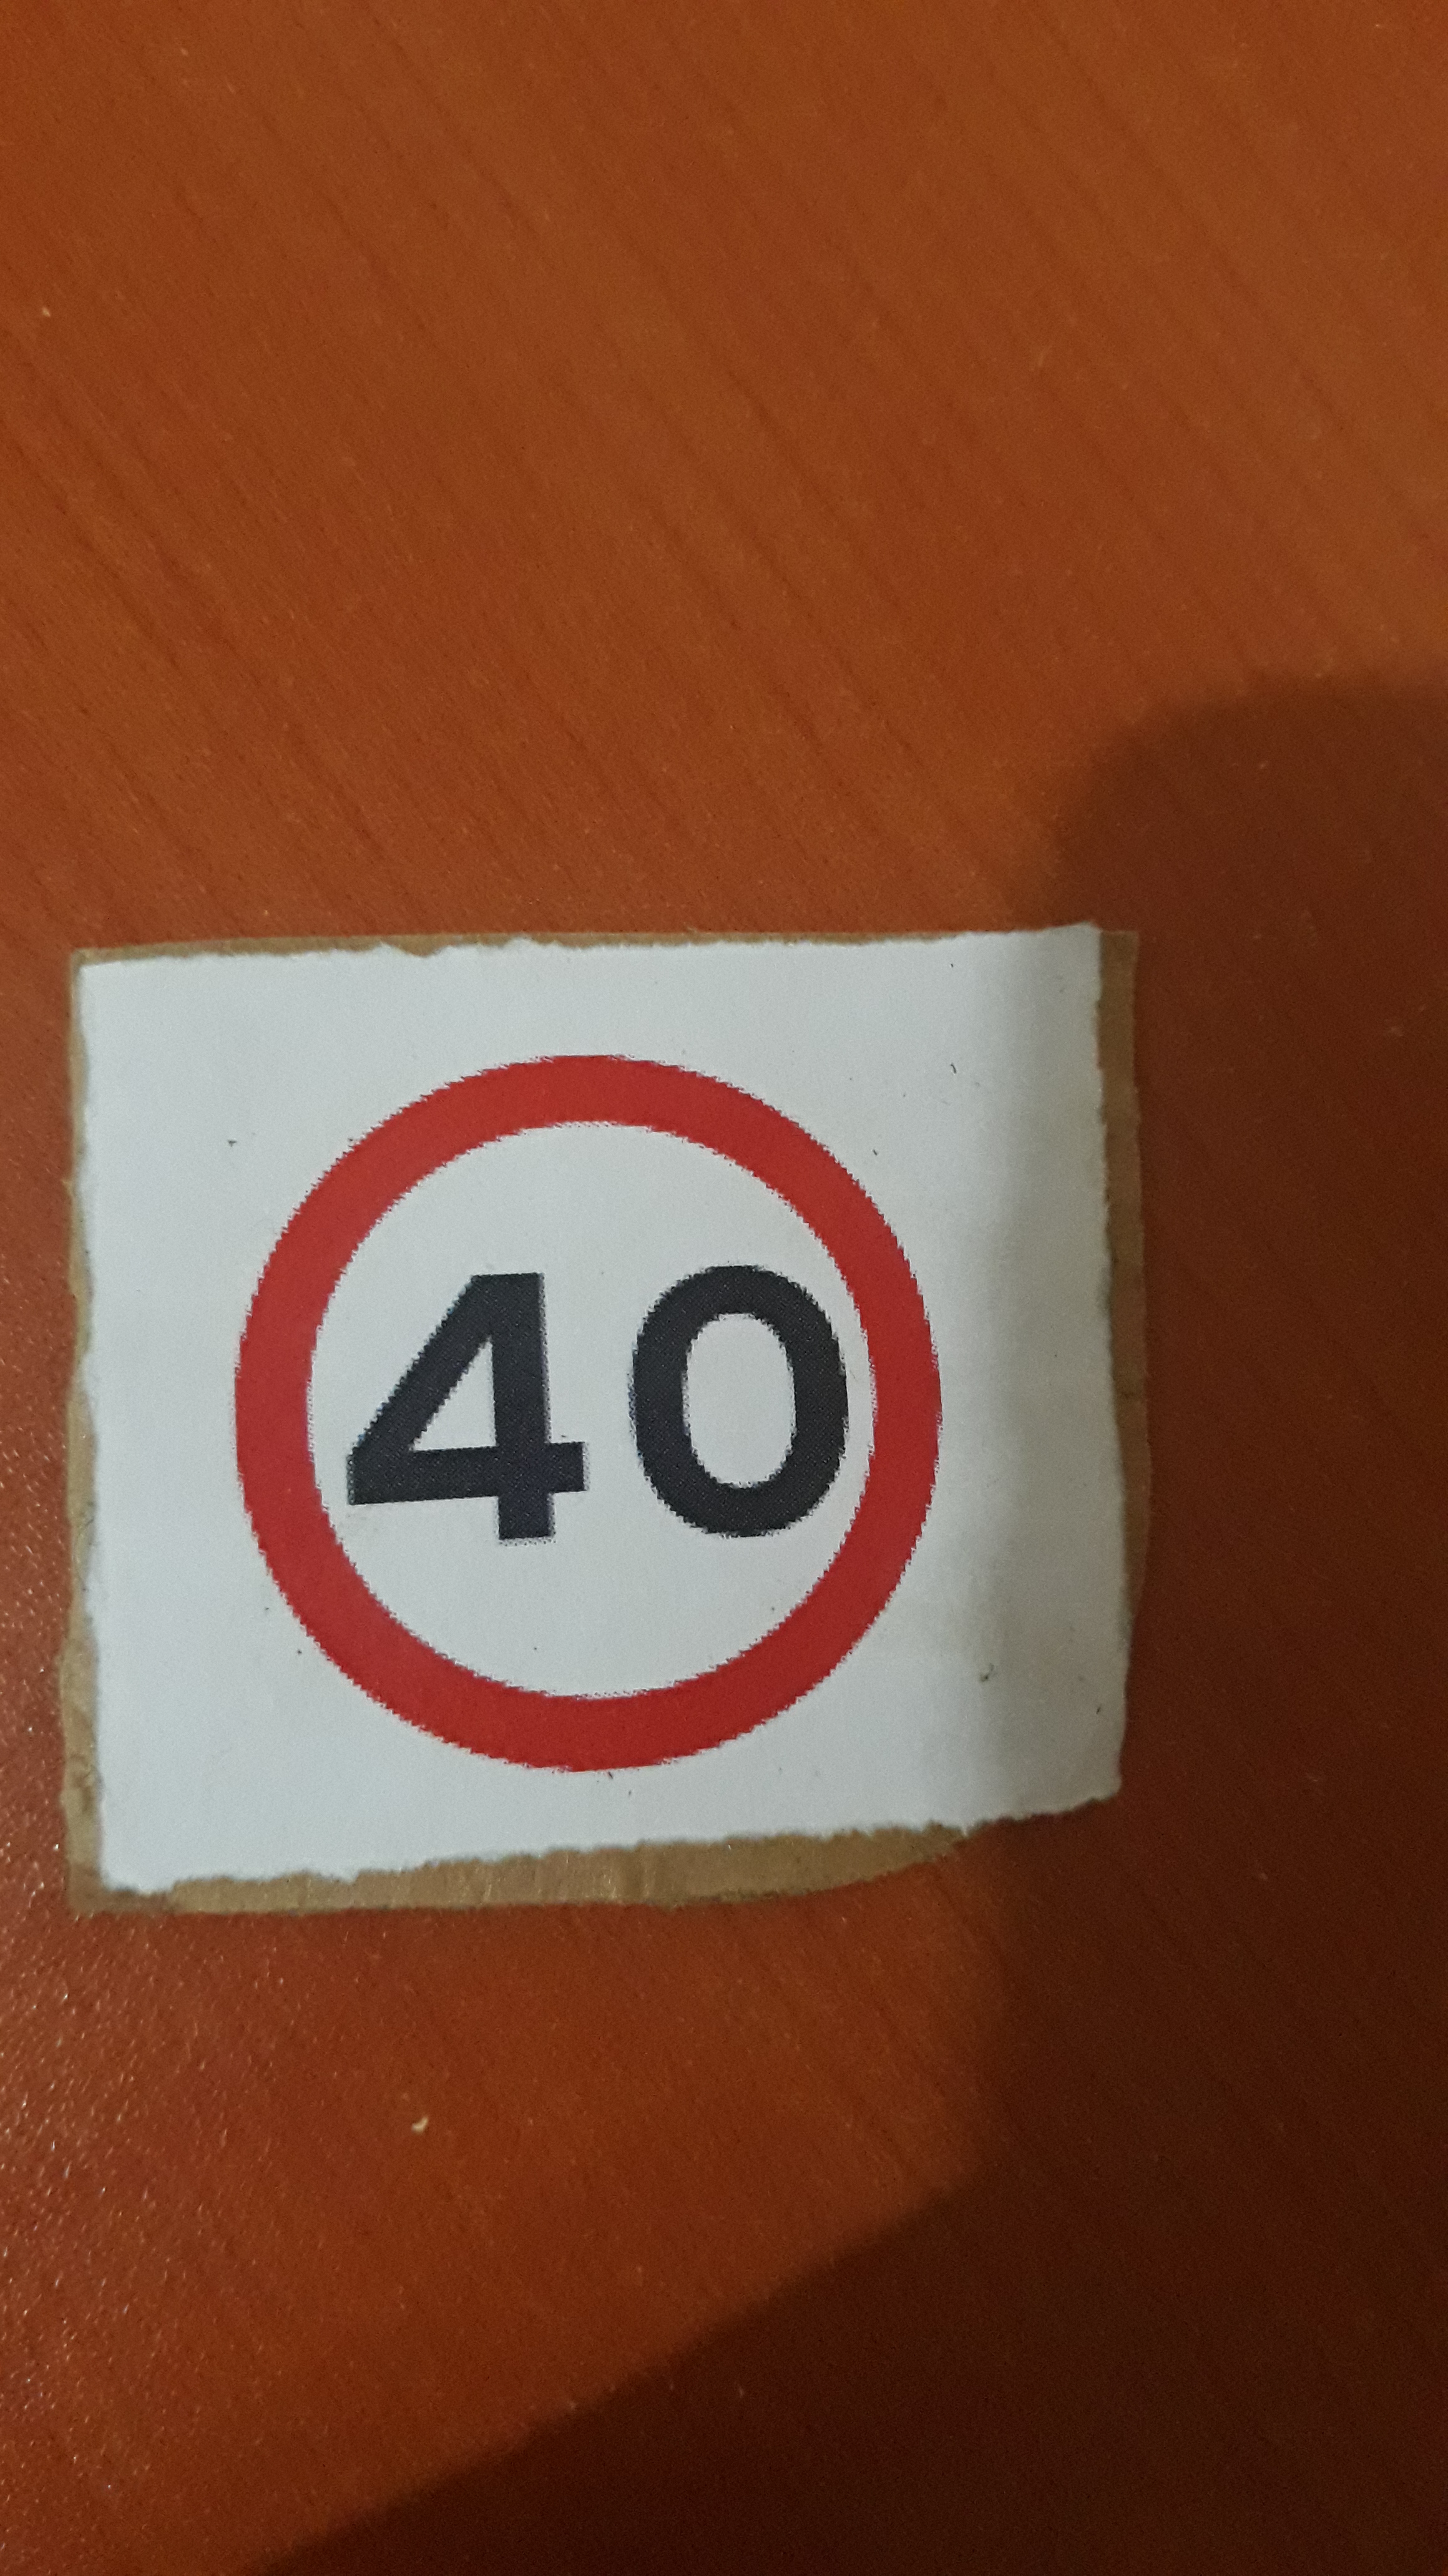40 kph: (202, 1000, 974, 1806)
